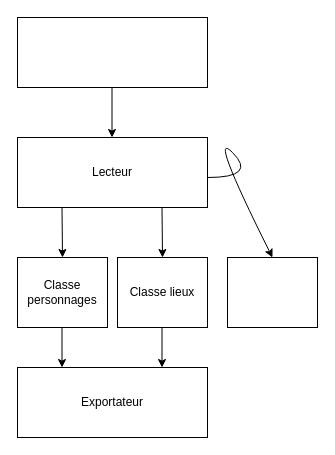
Some shapes in this 335 by 455 pixel diagram are drawn without their labels. Each missing label, with the centre of its shape:
Autres classes...: point (272, 292)
Importer textes: point (112, 52)
